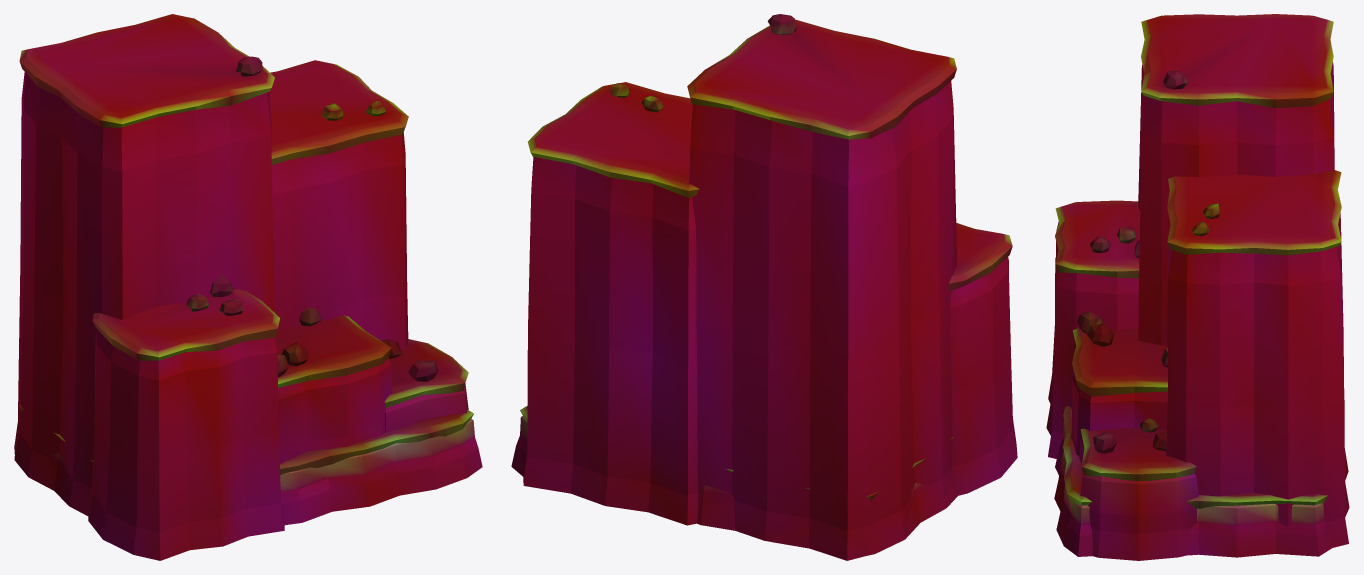
The model's file is Cliff_Big_01.fbx.
3 renders of one model, left to right at view 1: azimuth 30°, elevation 25°; view 2: azimuth 150°, elevation 25°; view 3: azimuth 270°, elevation 25°, orthographic. The views are drawn at different scales.
Parts seen in each view (by area): view 1: Cliff_Big_01; view 2: Cliff_Big_01; view 3: Cliff_Big_01.
Part boxes in pixels (x1=…): Cliff_Big_01: x1=14, y1=14, x2=482, y2=560; Cliff_Big_01: x1=511, y1=14, x2=1017, y2=560; Cliff_Big_01: x1=1046, y1=14, x2=1349, y2=560.
Bounding box in the file's own units: 9.5 × 10.3 × 7.08.
